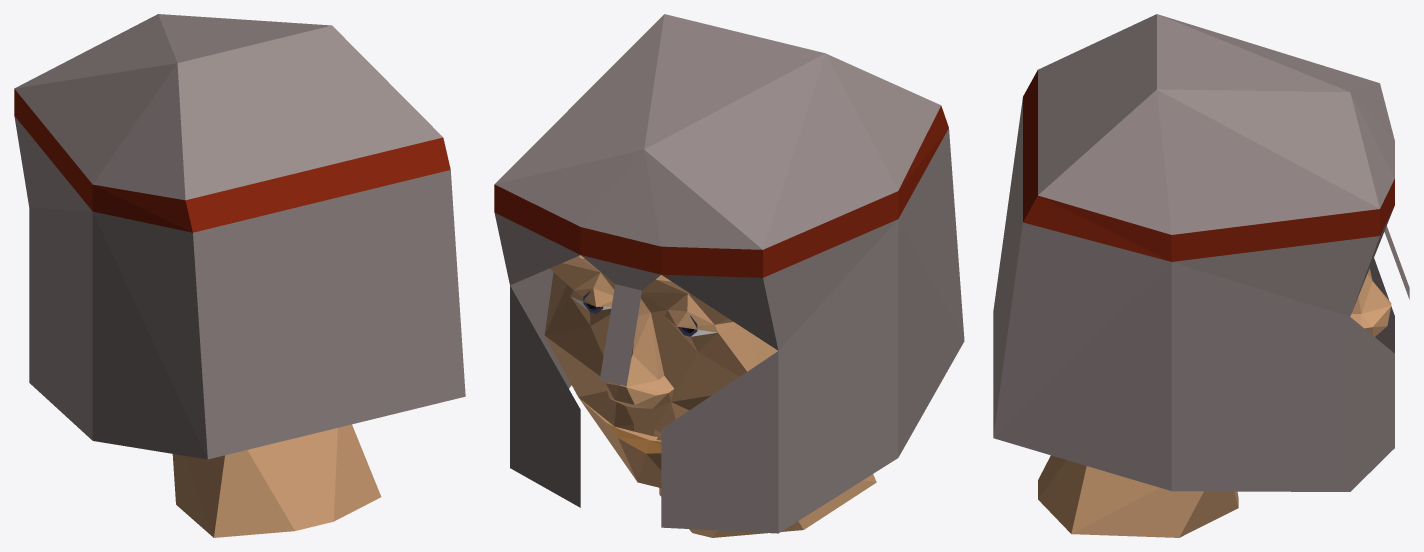
The model's file is itm_model_headA_steel_med_helm.obj.
The picture shows the model from 3 angles, left to right: view 1: azimuth 30°, elevation 25°; view 2: azimuth 150°, elevation 25°; view 3: azimuth 270°, elevation 25°; orthographic projection. The views are drawn at different scales.
Bounding box in the file's own units: 0.75 × 1.05 × 0.875.
